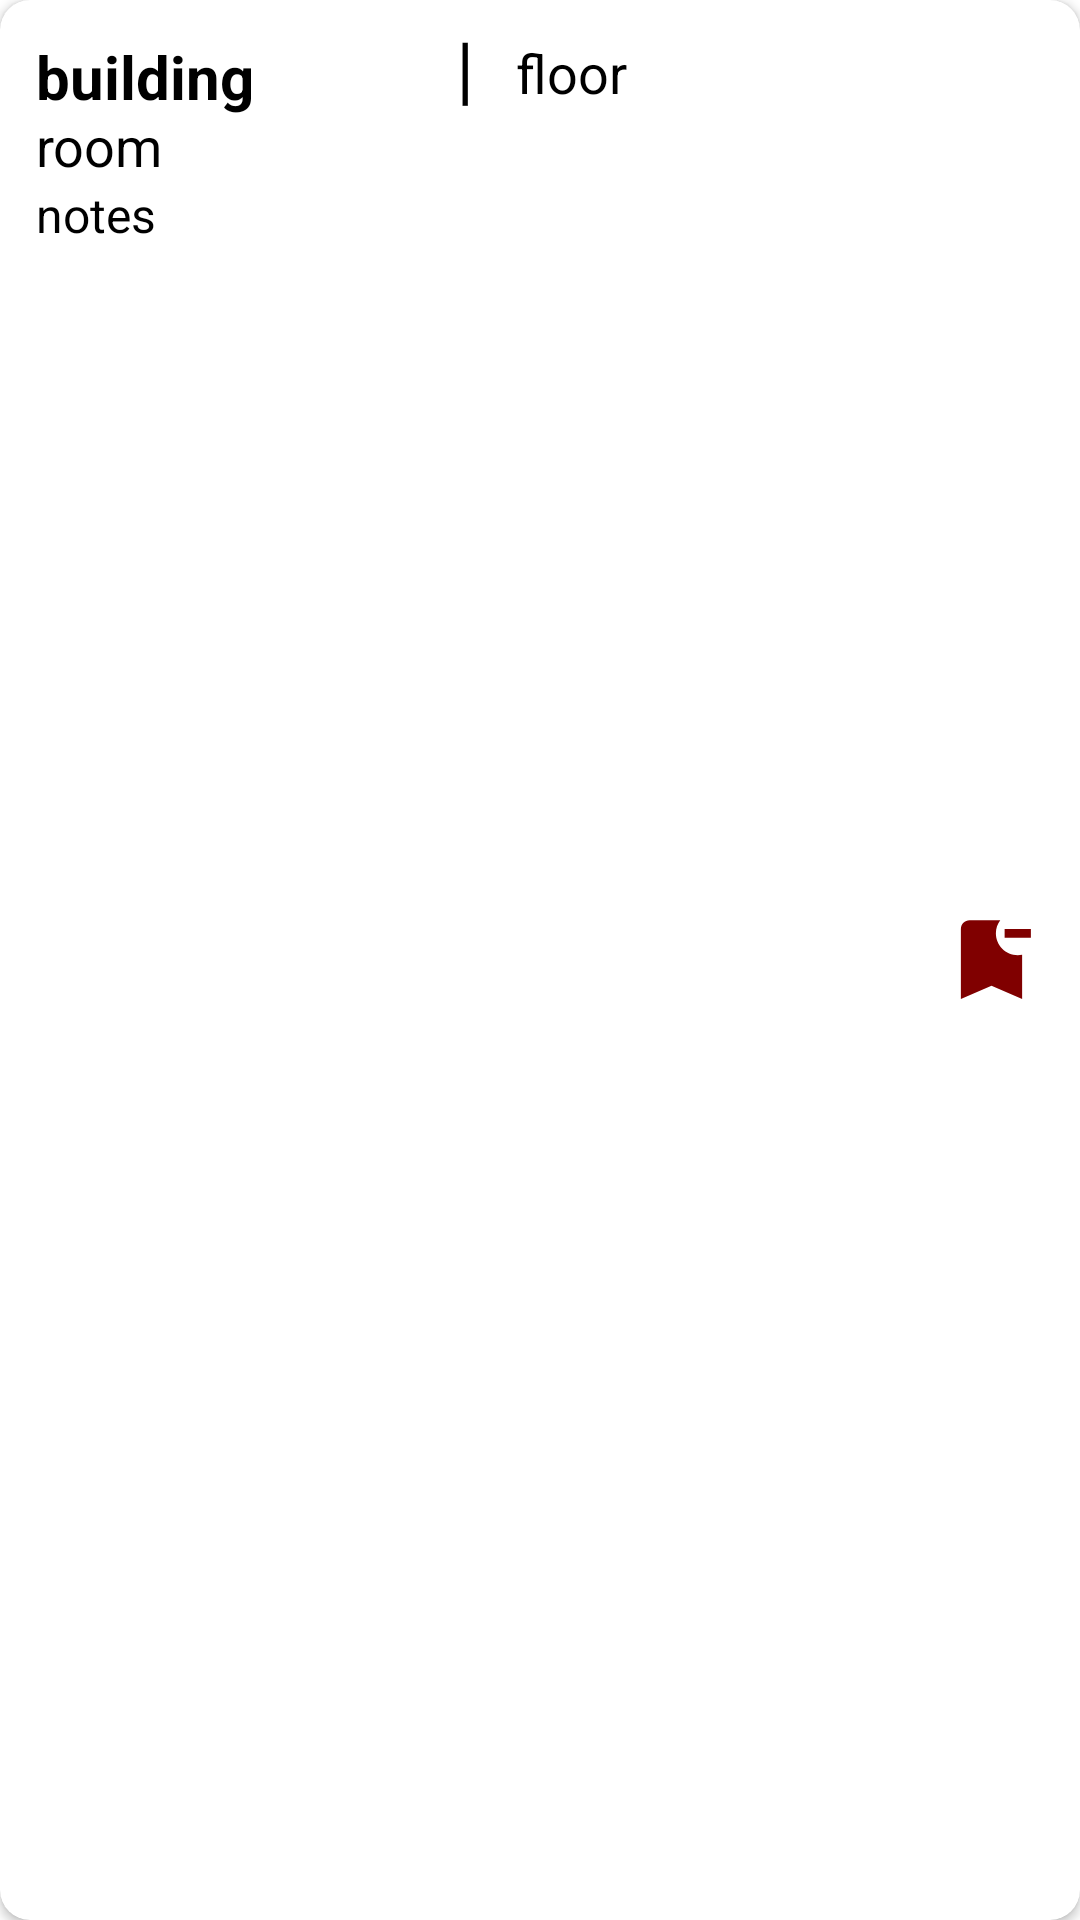

Point at icon controls on the screen. Image size 1080px×1920px, points as point (x, y).
bookmark remove: point (995, 959)
